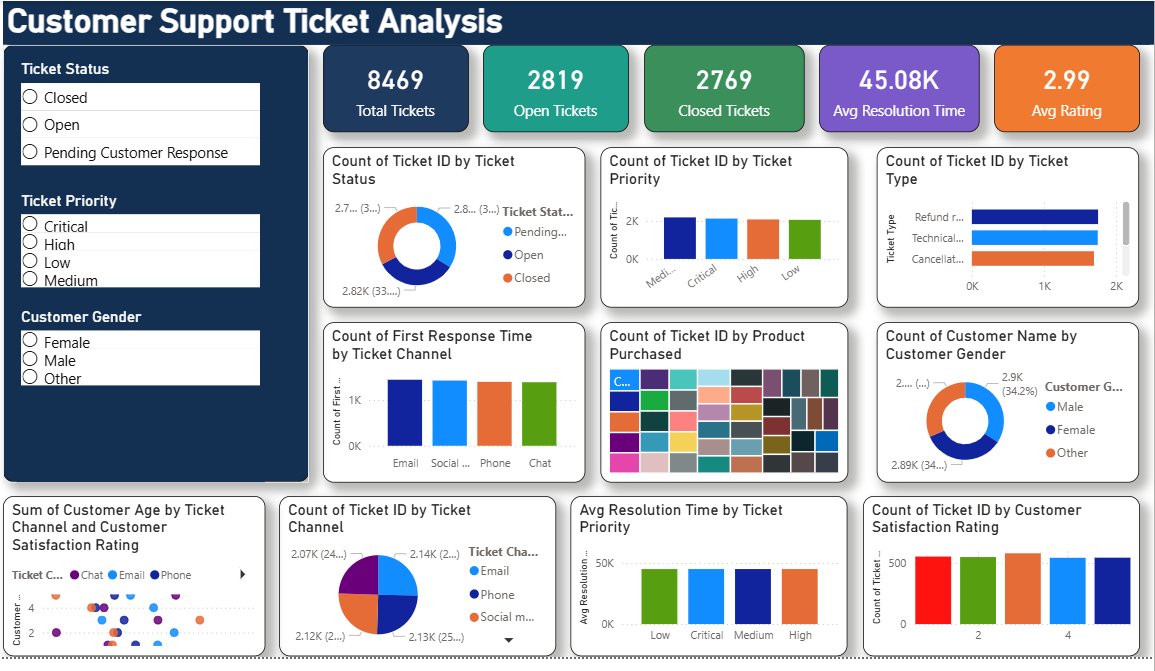

The dashboard page shown, as its layout file describes it:
{"tool":"powerbi","page":{"name":"Page 1","canvas":[1280,720],"ordinal":0},"visuals":[{"type":"card","fields":{"Values":["customer_support_tickets.Total Tickets"]},"box":[368,48,160,96],"z":0},{"type":"card","fields":{"Values":["customer_support_tickets.Open Tickets"]},"box":[544,48,160,96],"z":1000},{"type":"card","fields":{"Values":["customer_support_tickets.Closed Tickets"]},"box":[720,48,176,96],"z":2000},{"type":"card","fields":{"Values":["customer_support_tickets.Avg Resolution Time"]},"box":[912,48,176,96],"z":3000},{"type":"card","fields":{"Values":["customer_support_tickets.Avg Rating"]},"box":[1104,48,160,96],"z":4000},{"type":"donutChart","fields":{"Category":["customer_support_tickets.Ticket Status"],"Y":["CountNonNull(customer_support_tickets.Ticket ID)"]},"box":[368,160,288,176],"z":5000},{"type":"clusteredColumnChart","fields":{"Category":["customer_support_tickets.Ticket Priority"],"Y":["CountNonNull(customer_support_tickets.Ticket ID)"]},"box":[672,160,272,176],"z":6000},{"type":"barChart","fields":{"Category":["customer_support_tickets.Ticket Type"],"Y":["CountNonNull(customer_support_tickets.Ticket ID)"]},"box":[976,160,288,176],"z":7000},{"type":"pieChart","fields":{"Category":["customer_support_tickets.Ticket Channel"],"Y":["CountNonNull(customer_support_tickets.Ticket ID)"]},"box":[320,544,304,176],"z":8000},{"type":"treemap","fields":{"Group":["customer_support_tickets.Product Purchased"],"Values":["CountNonNull(customer_support_tickets.Ticket ID)"]},"box":[672,352,272,176],"z":9000},{"type":"clusteredColumnChart","fields":{"Category":["customer_support_tickets.Ticket Priority"],"Y":["customer_support_tickets.Avg Resolution Time"]},"box":[640,544,304,176],"z":10000},{"type":"columnChart","fields":{"Category":["customer_support_tickets.Ticket Channel"],"Y":["CountNonNull(customer_support_tickets.First Response Time)"]},"box":[368,352,288,176],"z":11000},{"type":"columnChart","fields":{"Category":["customer_support_tickets.Customer Satisfaction Rating"],"Y":["CountNonNull(customer_support_tickets.Ticket ID)"]},"box":[960,544,304,176],"z":12000},{"type":"donutChart","fields":{"Category":["customer_support_tickets.Customer Gender"],"Y":["CountNonNull(customer_support_tickets.Customer Name)"]},"box":[976,352,288,176],"z":13000},{"type":"scatterChart","fields":{"Y":["customer_support_tickets.Customer Satisfaction Rating"],"X":["Sum(customer_support_tickets.Customer Age)"],"Series":["customer_support_tickets.Ticket Channel"]},"box":[16,544,288,176],"z":14000},{"type":"textbox","box":[16,48,336,480],"z":15000},{"type":"listSlicer","fields":{"Values":["customer_support_tickets.Ticket Status"]},"box":[32,64,272,272],"z":17000},{"type":"listSlicer","fields":{"Values":["customer_support_tickets.Ticket Priority"]},"box":[32,208,272,192],"z":18000},{"type":"listSlicer","fields":{"Values":["customer_support_tickets.Customer Gender"]},"box":[32,336,272,192],"z":19000},{"type":"textbox","title":"Customer Support Ticket  Analysis","box":[16,0,1264,48],"z":19001}]}

Visuals, with their boxes in screenshot pixels (x1, y1, x2, y2):
card - customer_support_tickets.Total Tickets: {"x1": 318, "y1": 38, "x2": 466, "y2": 127}
card - customer_support_tickets.Open Tickets: {"x1": 481, "y1": 38, "x2": 628, "y2": 127}
card - customer_support_tickets.Closed Tickets: {"x1": 643, "y1": 38, "x2": 806, "y2": 127}
card - customer_support_tickets.Avg Resolution Time: {"x1": 820, "y1": 38, "x2": 983, "y2": 127}
card - customer_support_tickets.Avg Rating: {"x1": 997, "y1": 38, "x2": 1145, "y2": 127}
donutChart - customer_support_tickets.Ticket Status x CountNonNull(customer_support_tickets.Ticket ID): {"x1": 318, "y1": 142, "x2": 584, "y2": 304}
clusteredColumnChart - customer_support_tickets.Ticket Priority x CountNonNull(customer_support_tickets.Ticket ID): {"x1": 599, "y1": 142, "x2": 850, "y2": 304}
barChart - customer_support_tickets.Ticket Type x CountNonNull(customer_support_tickets.Ticket ID): {"x1": 879, "y1": 142, "x2": 1145, "y2": 304}
pieChart - customer_support_tickets.Ticket Channel x CountNonNull(customer_support_tickets.Ticket ID): {"x1": 274, "y1": 496, "x2": 555, "y2": 658}
treemap - customer_support_tickets.Product Purchased x CountNonNull(customer_support_tickets.Ticket ID): {"x1": 599, "y1": 319, "x2": 850, "y2": 481}
clusteredColumnChart - customer_support_tickets.Ticket Priority x customer_support_tickets.Avg Resolution Time: {"x1": 569, "y1": 496, "x2": 850, "y2": 658}
columnChart - customer_support_tickets.Ticket Channel x CountNonNull(customer_support_tickets.First Response Time): {"x1": 318, "y1": 319, "x2": 584, "y2": 481}
columnChart - customer_support_tickets.Customer Satisfaction Rating x CountNonNull(customer_support_tickets.Ticket ID): {"x1": 865, "y1": 496, "x2": 1145, "y2": 658}
donutChart - customer_support_tickets.Customer Gender x CountNonNull(customer_support_tickets.Customer Name): {"x1": 879, "y1": 319, "x2": 1145, "y2": 481}
scatterChart - customer_support_tickets.Customer Satisfaction Rating x Sum(customer_support_tickets.Customer Age): {"x1": 0, "y1": 496, "x2": 259, "y2": 658}
textbox: {"x1": 0, "y1": 38, "x2": 304, "y2": 481}
listSlicer - customer_support_tickets.Ticket Status: {"x1": 8, "y1": 53, "x2": 259, "y2": 304}
listSlicer - customer_support_tickets.Ticket Priority: {"x1": 8, "y1": 186, "x2": 259, "y2": 363}
listSlicer - customer_support_tickets.Customer Gender: {"x1": 8, "y1": 304, "x2": 259, "y2": 481}
"Customer Support Ticket  Analysis" textbox: {"x1": 0, "y1": 0, "x2": 1154, "y2": 38}
